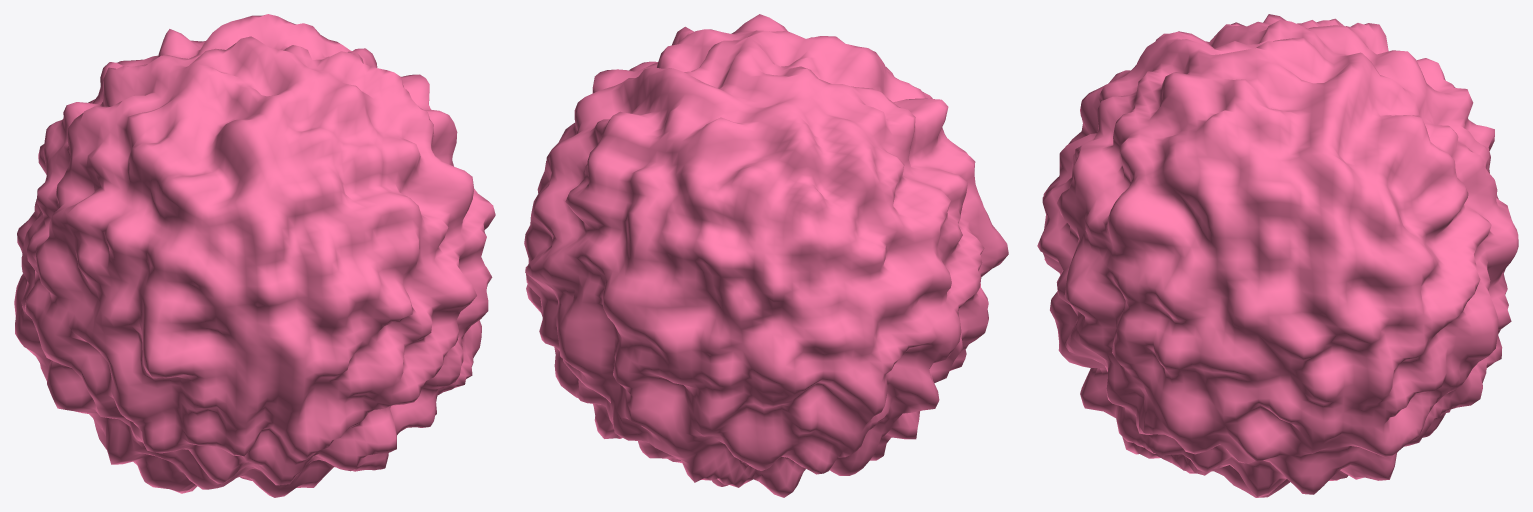
3 views of the same model, side by side, from view 1: azimuth 30°, elevation 25°; view 2: azimuth 150°, elevation 25°; view 3: azimuth 270°, elevation 25° (orthographic). The views are drawn at different scales.
Parts seen in each view (by area): view 1: Membrane; view 2: Membrane; view 3: Membrane.
Boxes of the visible parts, x1,y1,x2,y2 form: Membrane: (14, 14, 495, 497); Membrane: (524, 14, 1008, 497); Membrane: (1037, 14, 1518, 497).
Size of the model in its own units: 183 by 183 by 183.
